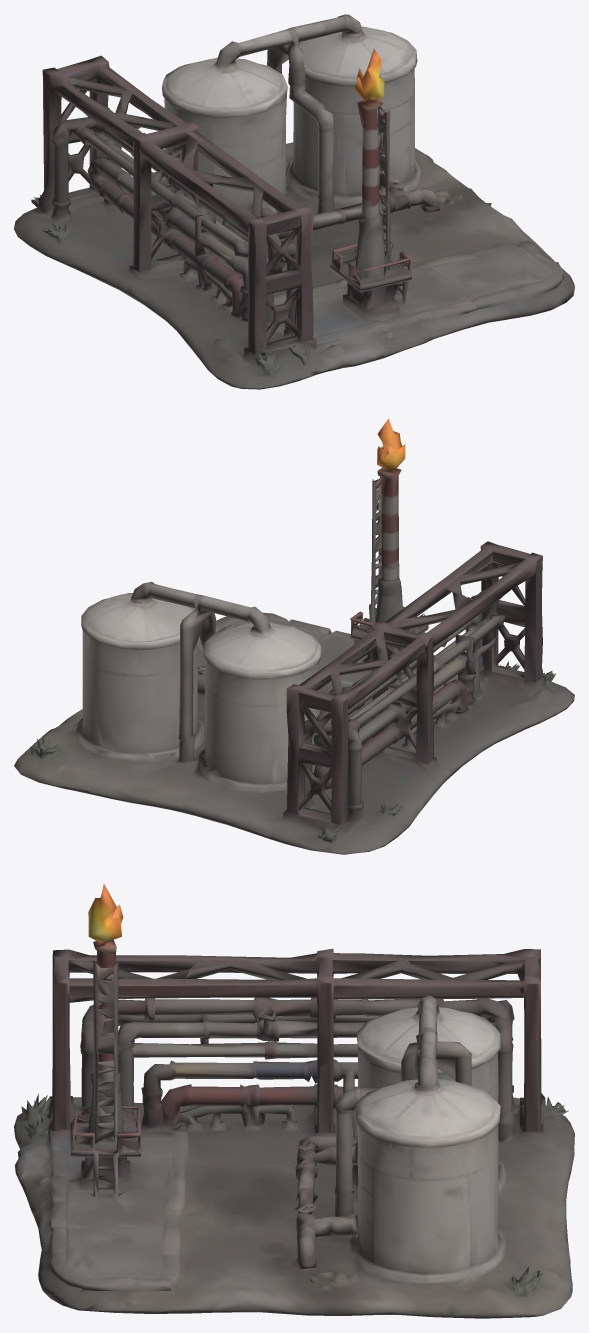
The model's file is refinery_main.glb.
3 views of the same model, one above another, from view 1: azimuth 30°, elevation 25°; view 2: azimuth 150°, elevation 25°; view 3: azimuth 270°, elevation 25° (orthographic). The views are drawn at different scales.
Parts seen in each view (by area): view 1: tripo_node_36b81c6a-0287-4c83-9bec-30b4650ba12d; view 2: tripo_node_36b81c6a-0287-4c83-9bec-30b4650ba12d; view 3: tripo_node_36b81c6a-0287-4c83-9bec-30b4650ba12d.
Part boxes in pixels (box(x1,y1,x2,y2)): tripo_node_36b81c6a-0287-4c83-9bec-30b4650ba12d: box(14, 14, 574, 389); tripo_node_36b81c6a-0287-4c83-9bec-30b4650ba12d: box(14, 418, 574, 854); tripo_node_36b81c6a-0287-4c83-9bec-30b4650ba12d: box(14, 883, 574, 1318).
Bounding box in the file's own units: 0.9138 × 0.635 × 1.
1 material, 1 textured.
